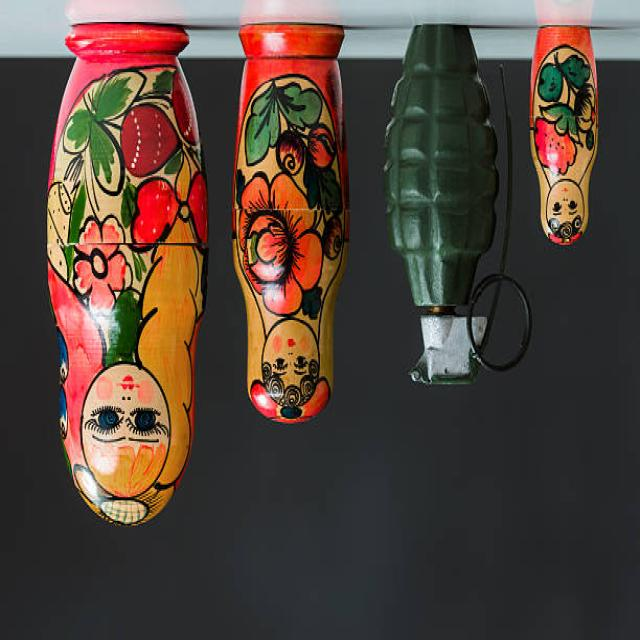grenade: (382, 26, 536, 395)
